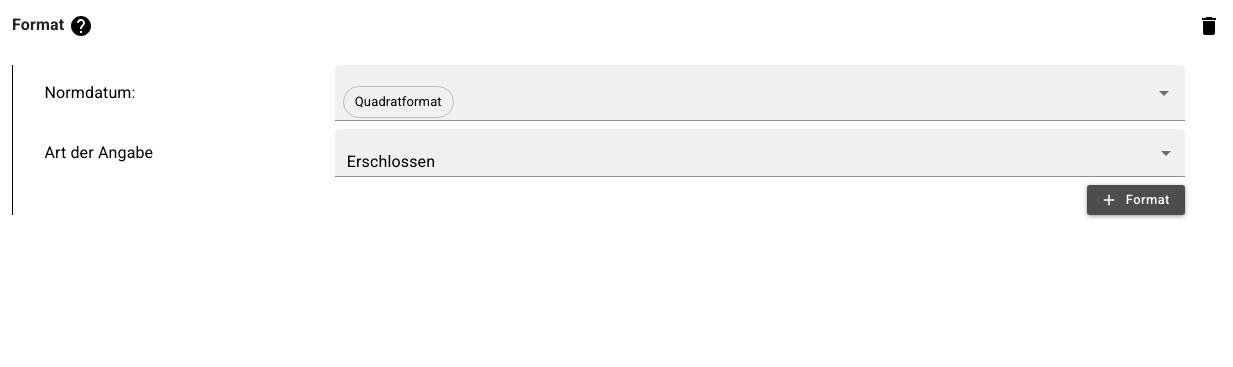
Scenario: Format › without error › selects option
This screenshot has width=1233, height=367.
What coordinates should you click on to do the following:
click the dropdown labelled "Erschlossen"
I would click on:
 (391, 161)
Its box is [347,152,435,170].
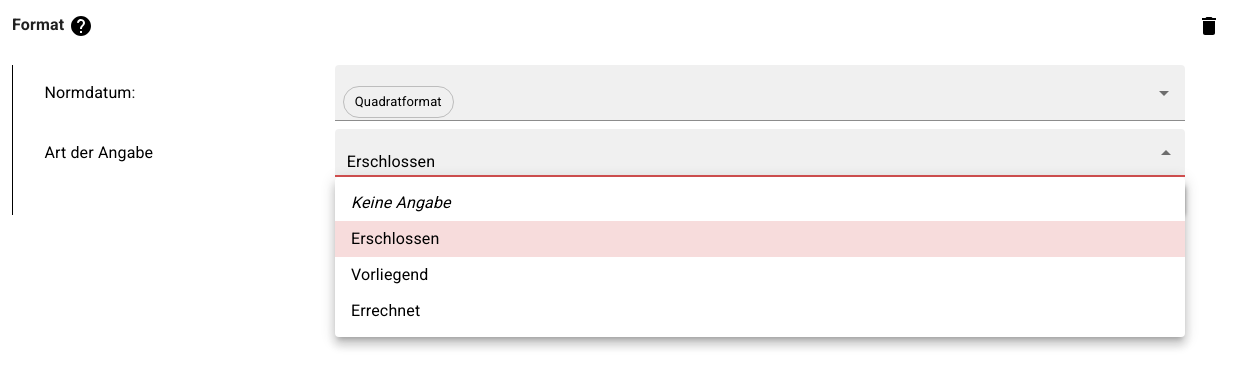
Expected: the option "Erschlossen" is shown, [335,221,1185,257]
Expected: the option "Vorliegend" is shown, [351,265,428,284]
Expected: the option "Errechnet" is shown, [351,301,420,320]
